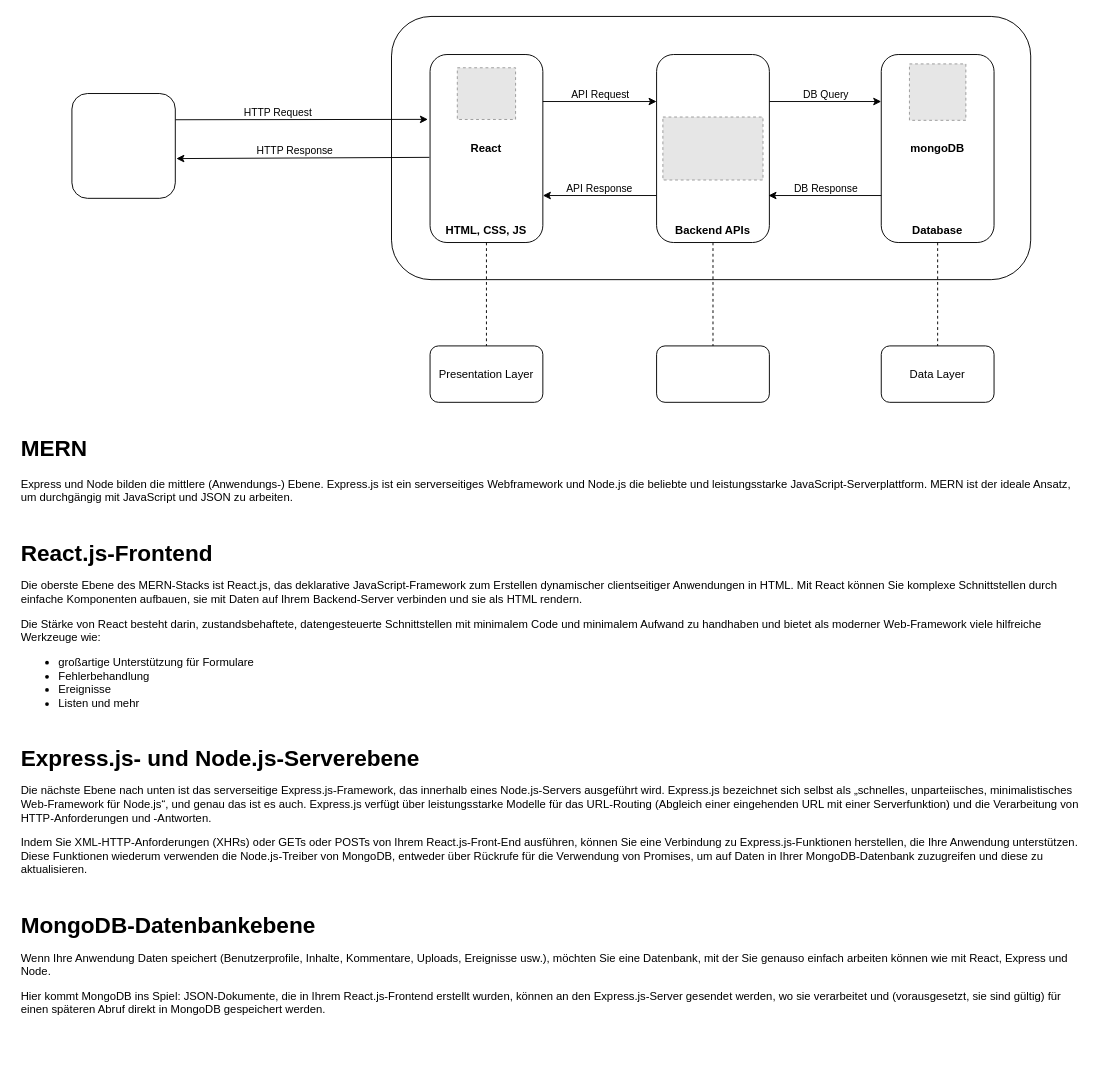
This 1104x1086 diagram has some shape labels left out. Grey dashed boxes stand in for pictures. The centre of each missing label's shape, as x and y in pixels:
Application Layer: point 712,373
Client: point 123,145
